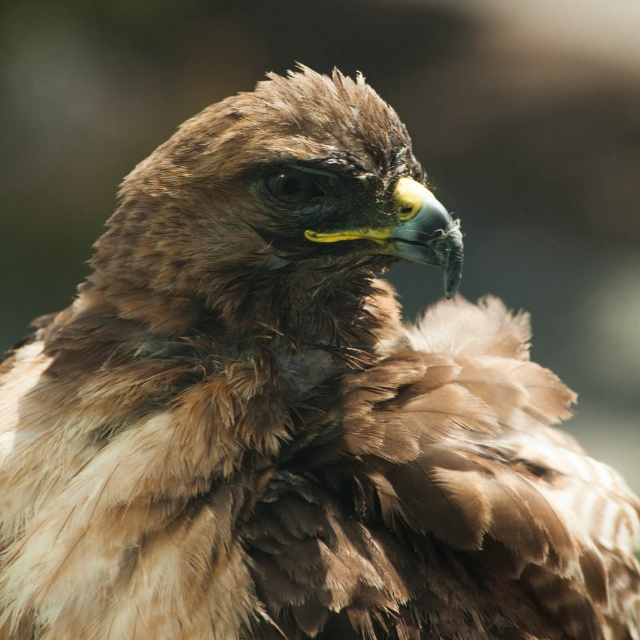Eagle: (0, 62, 640, 640)
